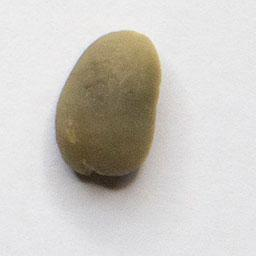peaberry: (52, 26, 166, 182)
